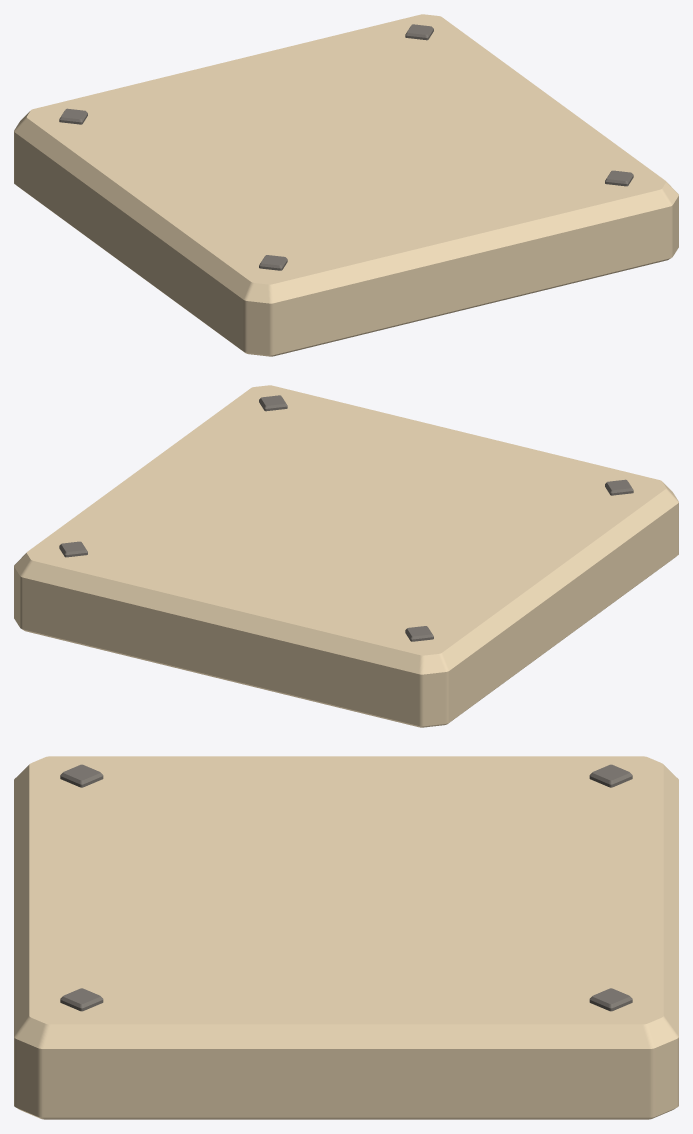
File: floor_tile.glb
3 renders of one model, top to bottom at view 1: azimuth 30°, elevation 25°; view 2: azimuth 150°, elevation 25°; view 3: azimuth 270°, elevation 25°, orthographic. The views are drawn at different scales.
Visible parts, largest first — view 1: floor_tile; view 2: floor_tile; view 3: floor_tile.
Part boxes in pixels (x1,y1,x2,y2): floor_tile: (14, 14, 678, 356); floor_tile: (14, 385, 678, 727); floor_tile: (14, 756, 678, 1119).
Size of the model in its own units: 1 by 0.16 by 1.
